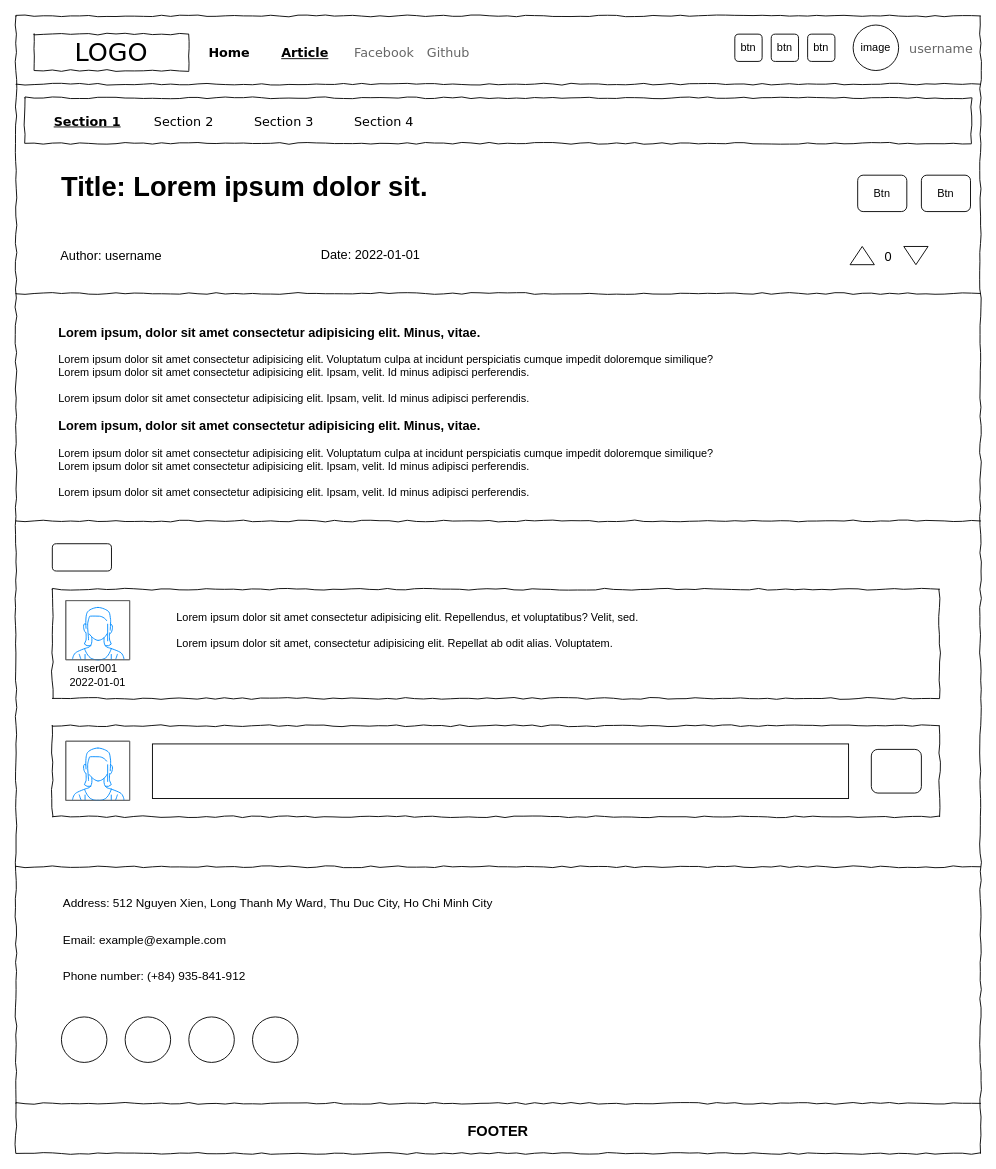
Image size: 996x1169. Some labels were removed from this diagram. The box of each missing label's shape, as (x1, y1, x2, y2) in pixels:
Report: (51, 543, 111, 571)
Send: (870, 748, 921, 793)
Write comment here: (152, 743, 849, 799)
